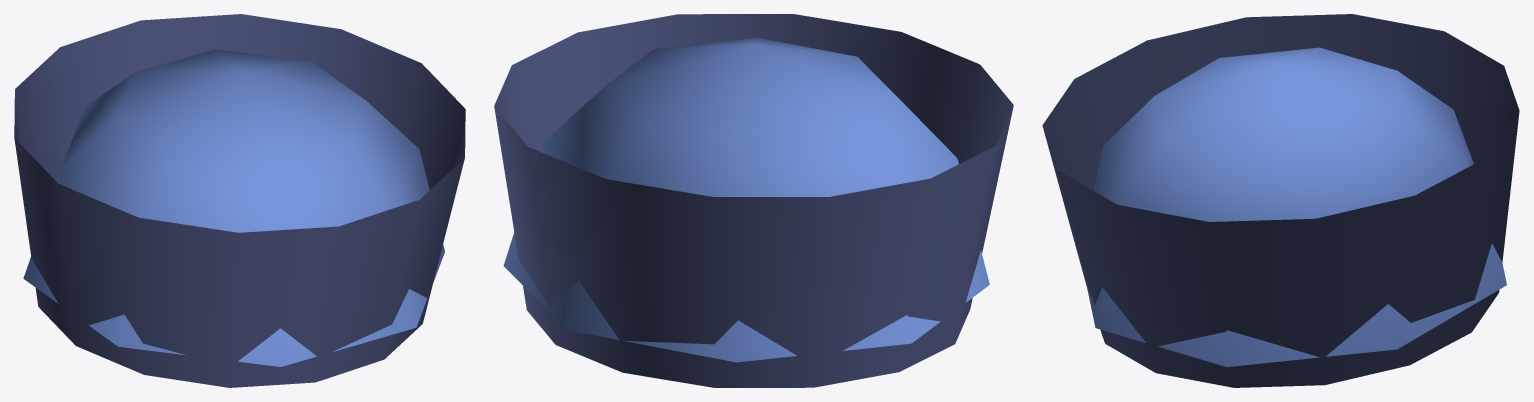
Rendered from DJstageLightBlueLitUp.fbx.
3 views of the same model, side by side, from view 1: azimuth 30°, elevation 25°; view 2: azimuth 150°, elevation 25°; view 3: azimuth 270°, elevation 25° (orthographic). The views are drawn at different scales.
Parts seen in each view (by area): view 1: DJStageLightBlue; view 2: DJStageLightBlue; view 3: DJStageLightBlue.
Boxes of the visible parts, bbox=[...] form: DJStageLightBlue: bbox=[14, 14, 465, 387]; DJStageLightBlue: bbox=[494, 14, 1013, 387]; DJStageLightBlue: bbox=[1042, 14, 1519, 387].
Size of the model in its own units: 19.17 by 11.11 by 19.26.
